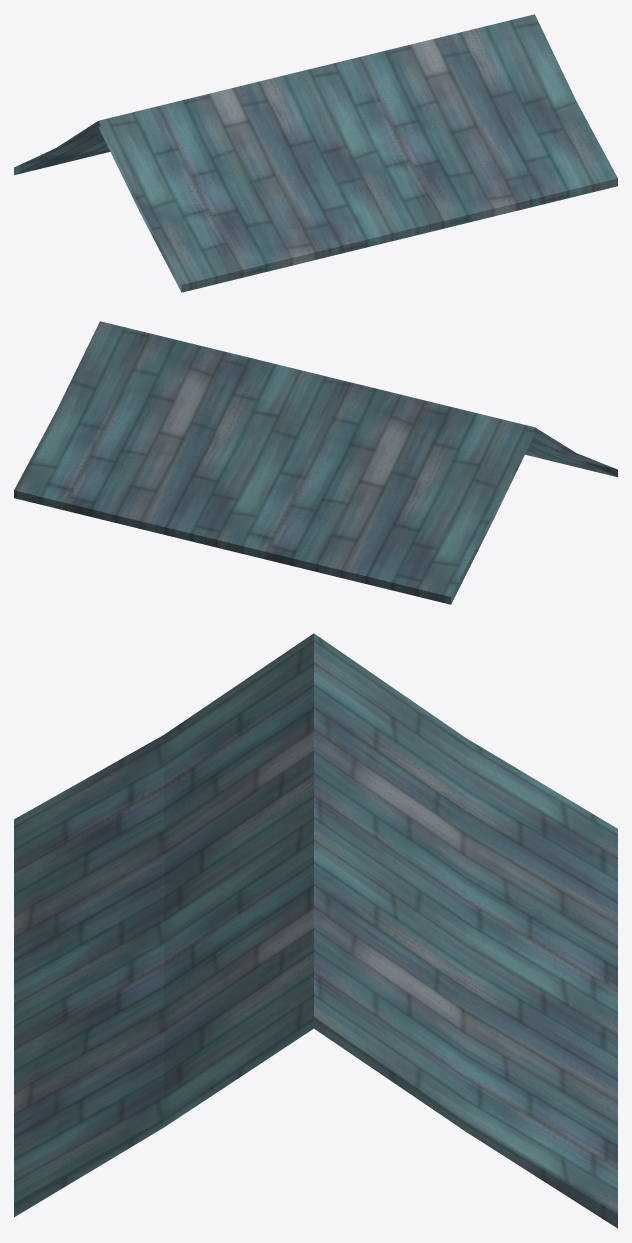
File: SM_Roof_02.fbx
The picture shows the model from 3 angles, top to bottom: view 1: azimuth 30°, elevation 25°; view 2: azimuth 150°, elevation 25°; view 3: azimuth 270°, elevation 25°; orthographic projection. The views are drawn at different scales.
Parts seen in each view (by area): view 1: SM_Roof_02; view 2: SM_Roof_02; view 3: SM_Roof_02.
Part boxes in pixels (left/top/right/bottom): SM_Roof_02: left=14, top=14, right=617, bottom=292; SM_Roof_02: left=14, top=321, right=617, bottom=604; SM_Roof_02: left=14, top=633, right=617, bottom=1228.
Size of the model in its own units: 1366 by 346 by 904.
